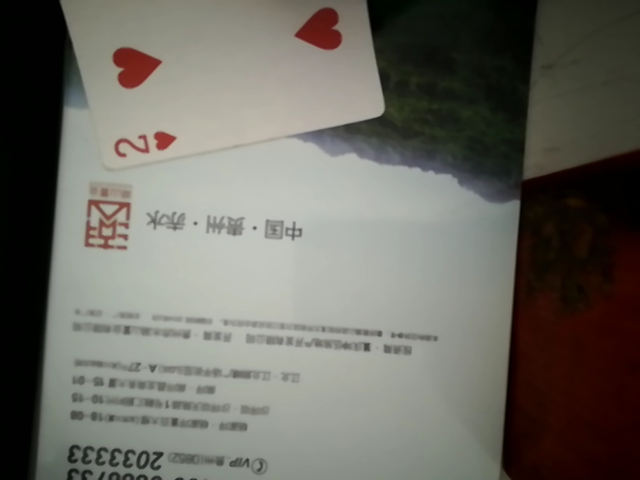hx 2: (65, 0, 388, 162)
